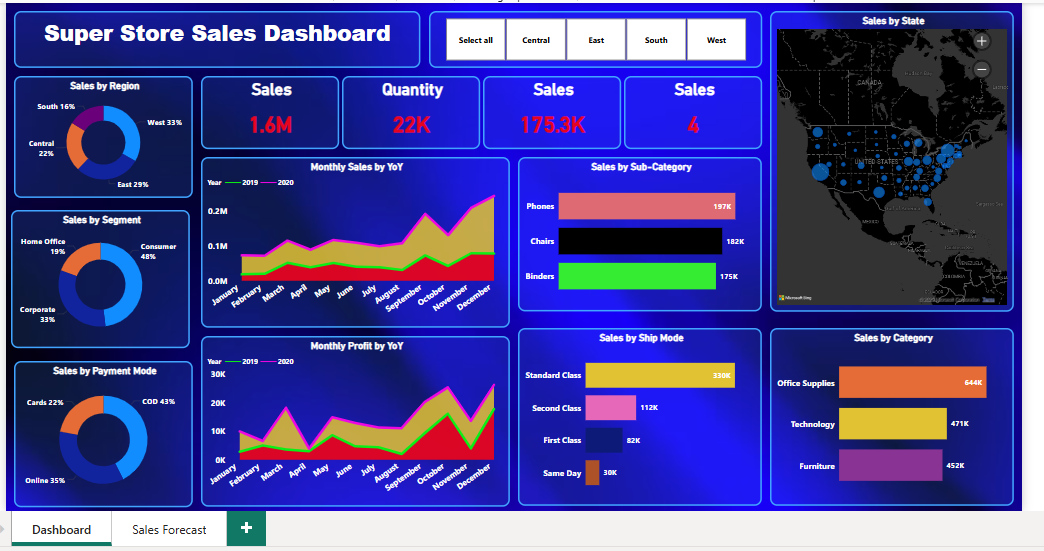

The page's visual inventory and layout, read from the dashboard file:
{"tool":"powerbi","page":{"name":"Dashboard","canvas":[2000,1000],"ordinal":0},"visuals":[{"type":"clusteredBarChart","title":"Sales by Category","fields":{"Category":["SuperStore_Sales_Dataset (2).Category"],"Y":["Sum(SuperStore_Sales_Dataset (2).Sales)"]},"box":[1504,640,480,350],"z":0},{"type":"clusteredBarChart","title":"Sales by Sub-Category","fields":{"Y":["Sum(SuperStore_Sales_Dataset (2).Sales)"],"Category":["SuperStore_Sales_Dataset (2).Sub-Category"]},"box":[1008,304,480,304],"z":1000},{"type":"clusteredBarChart","title":"Sales by Ship Mode","fields":{"Y":["Sum(SuperStore_Sales_Dataset (2).Sales)"],"Category":["SuperStore_Sales_Dataset (2).Ship Mode"]},"box":[1008,640,480,350],"z":2000},{"type":"stackedAreaChart","title":"Monthly Sales by YoY","fields":{"Y":["Sum(SuperStore_Sales_Dataset (2).Sales)"],"Category":["SuperStore_Sales_Dataset (2).Order Date.Variation.Date Hierarchy.Month","SuperStore_Sales_Dataset (2).Order Date.Variation.Date Hierarchy.Day"],"Series":["SuperStore_Sales_Dataset (2).Order Date.Variation.Date Hierarchy.Year"]},"box":[384,304,608,336],"z":3000},{"type":"stackedAreaChart","title":"Monthly Profit by YoY","fields":{"Category":["SuperStore_Sales_Dataset (2).Order Date.Variation.Date Hierarchy.Month","SuperStore_Sales_Dataset (2).Order Date.Variation.Date Hierarchy.Day"],"Series":["SuperStore_Sales_Dataset (2).Order Date.Variation.Date Hierarchy.Year"],"Y":["Sum(SuperStore_Sales_Dataset (2).Profit)"]},"box":[384,656,608,336],"z":4000},{"type":"map","title":"Sales by State","fields":{"Category":["SuperStore_Sales_Dataset (2).State"],"Size":["Sum(SuperStore_Sales_Dataset (2).Sales)"]},"box":[1504,16,480,592],"z":5000},{"type":"donutChart","title":"Sales by Segment","fields":{"Category":["SuperStore_Sales_Dataset (2).Segment"],"Y":["Sum(SuperStore_Sales_Dataset (2).Sales)"]},"box":[10.7,408,352,272],"z":6000},{"type":"donutChart","title":"Sales by Payment Mode","fields":{"Y":["Sum(SuperStore_Sales_Dataset (2).Sales)"],"Category":["SuperStore_Sales_Dataset (2).Payment Mode"]},"box":[16,704,352,288],"z":7000},{"type":"slicer","fields":{"Values":["SuperStore_Sales_Dataset (2).Region"]},"box":[832,16,656,112],"z":8000},{"type":"textbox","box":[16,16,800,112],"z":9000},{"type":"donutChart","title":"Sales by Region","fields":{"Y":["Sum(SuperStore_Sales_Dataset (2).Sales)"],"Category":["SuperStore_Sales_Dataset (2).Region"]},"box":[16,144,352,240],"z":10000},{"type":"card","title":"Sales","fields":{"Values":["Sum(SuperStore_Sales_Dataset (2).Sales)"]},"box":[384,144,272,144],"z":11000},{"type":"card","title":"Quantity","fields":{"Values":["Sum(SuperStore_Sales_Dataset (2).Quantity)"]},"box":[661.3,144,272,144],"z":12000},{"type":"card","title":"Profit","fields":{"Values":["Sum(SuperStore_Sales_Dataset (2).Profit)"]},"box":[938.7,144,272,144],"z":13000},{"type":"card","title":"Avg Ship Days","fields":{"Values":["Avg(SuperStore_Sales_Dataset (2).AvgDelivery)"]},"box":[1216,144,272,144],"z":14000}]}

Visuals, with their boxes in screenshot pixels (x1, y1, x2, y2):
"Sales by Category" clusteredBarChart: rect(772, 327, 1019, 507)
"Sales by Sub-Category" clusteredBarChart: rect(516, 154, 763, 310)
"Sales by Ship Mode" clusteredBarChart: rect(516, 327, 763, 507)
"Monthly Sales by YoY" stackedAreaChart: rect(195, 154, 508, 327)
"Monthly Profit by YoY" stackedAreaChart: rect(195, 335, 508, 508)
"Sales by State" map: rect(772, 6, 1019, 310)
"Sales by Segment" donutChart: rect(3, 207, 184, 347)
"Sales by Payment Mode" donutChart: rect(6, 360, 187, 508)
slicer - SuperStore_Sales_Dataset (2).Region: rect(426, 6, 763, 63)
textbox: rect(6, 6, 417, 63)
"Sales by Region" donutChart: rect(6, 71, 187, 195)
"Sales" card: rect(195, 71, 335, 146)
"Quantity" card: rect(338, 71, 478, 146)
"Profit" card: rect(481, 71, 621, 146)
"Avg Ship Days" card: rect(623, 71, 763, 146)
